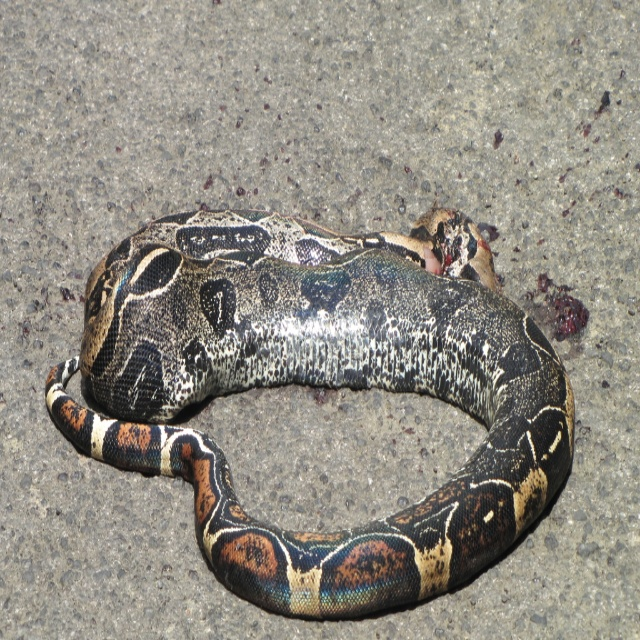Snake: (44, 205, 574, 619)
